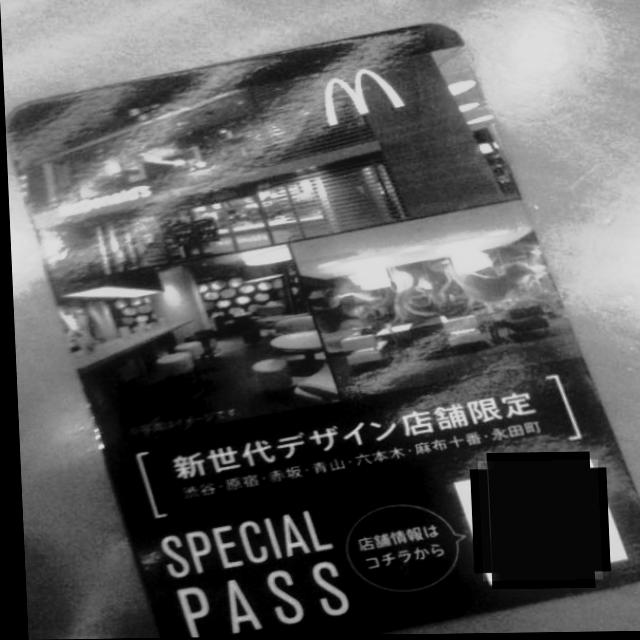qr_code: (473, 461, 598, 583)
